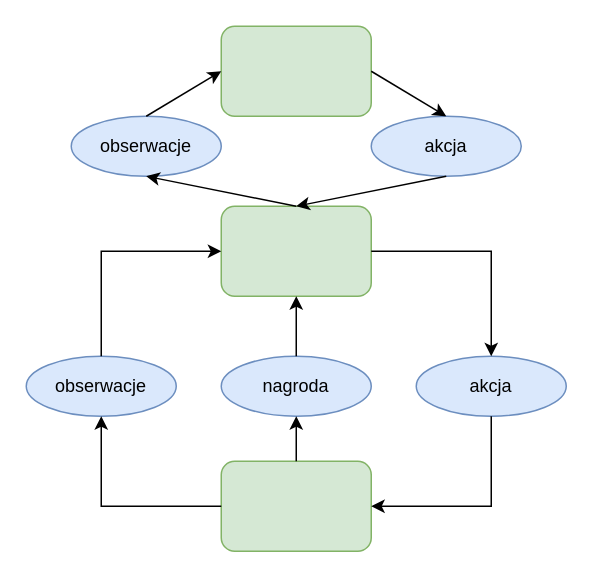
This 593x578 diagram has some shape labels left out. The shapes that lost their labels are listed below. From the top down, each one's box as (x1, y1, x2, y2) in pixels, then its label:
(220, 25, 371, 116): polityka
(220, 205, 371, 296): agent
(220, 460, 371, 551): środowisko
